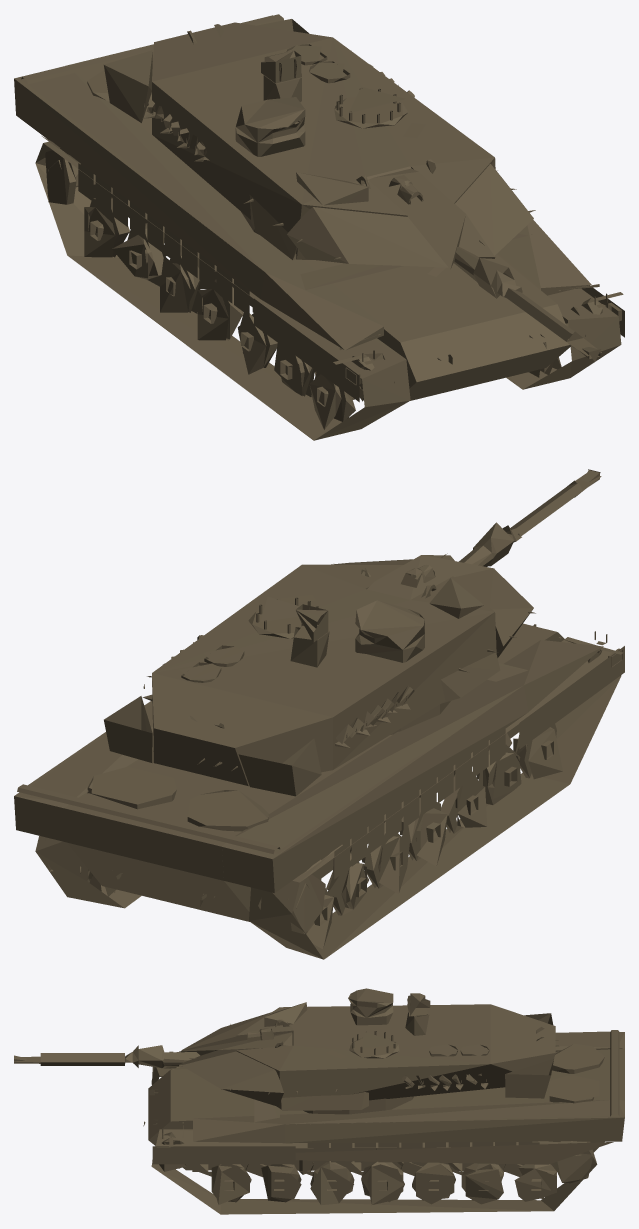
Rendered from tank.lod2.glb.
3 views of the same model, one above another, from view 1: azimuth 30°, elevation 25°; view 2: azimuth 150°, elevation 25°; view 3: azimuth 270°, elevation 25° (orthographic). The views are drawn at different scales.
Visible parts, largest first — view 1: Body 1_Textures Body _0; view 2: Body 1_Textures Body _0; view 3: Body 1_Textures Body _0.
Part boxes in pixels (x1,y1,x2,y2): Body 1_Textures Body _0: [14, 14, 624, 440]; Body 1_Textures Body _0: [14, 469, 624, 959]; Body 1_Textures Body _0: [14, 988, 624, 1214].
Size of the model in its own units: 3.5 by 2.94 by 9.5.
